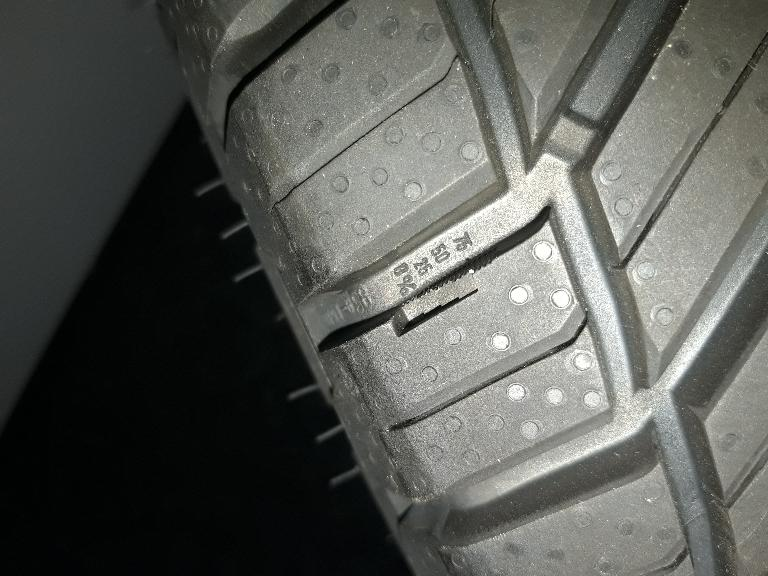temoin:100: (386, 245, 500, 342)
